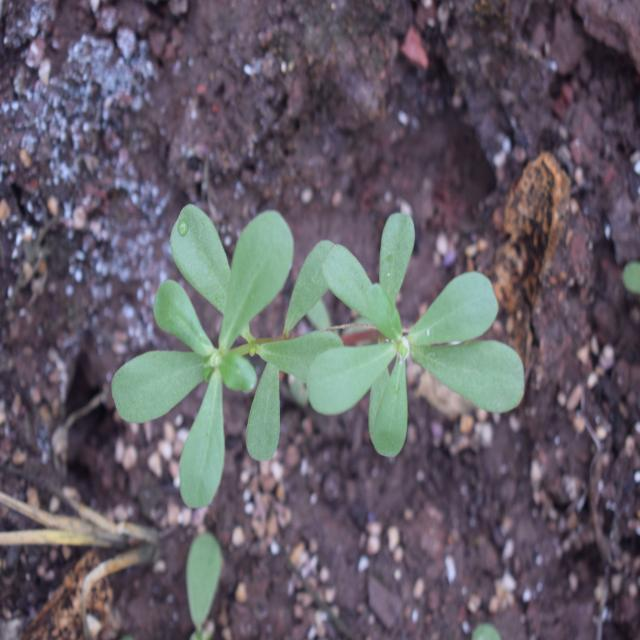purslane: (96, 178, 536, 522)
